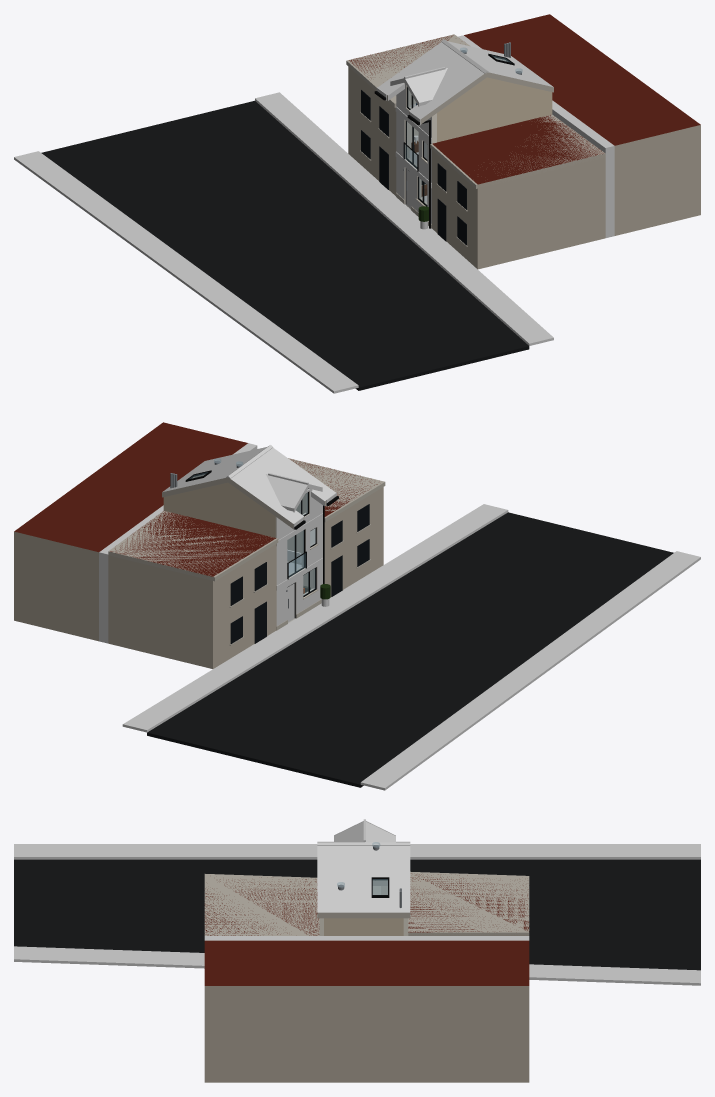
The model's file is Casa A - con despensa.obj.
The picture shows the model from 3 angles, top to bottom: view 1: azimuth 30°, elevation 25°; view 2: azimuth 150°, elevation 25°; view 3: azimuth 270°, elevation 25°; orthographic projection. The views are drawn at different scales.
Visible parts, largest first — view 1: Calle_y_aceras, Colindante_sur_(h_5.27), Colindante_trasero, Colindante_norte_(h_5.80), BC_Muros_exteriores, Cubierta_faldón_delantero, Cubierta_faldón_trasero, Muro_de_piedra_trasero, P1_Muros_exteriores, Casetón, PB_Muros_exteriores; view 2: Calle_y_aceras, Colindante_norte_(h_5.80), Colindante_trasero, Colindante_sur_(h_5.27), BC_Muros_exteriores, Cubierta_faldón_delantero, Cubierta_faldón_trasero, Muro_de_piedra_trasero, Casetón, PB_Muros_exteriores, P1_Muros_exteriores, P1_Vidrios_de_fachada (+1 smaller); view 3: Calle_y_aceras, Colindante_trasero, Colindante_norte_(h_5.80), Colindante_sur_(h_5.27), Cubierta_faldón_trasero, Muro_de_piedra_trasero, BC_Muros_exteriores, Casetón.
Part boxes in pixels (left/top/right/bottom): Calle_y_aceras: left=14, top=92, right=553, bottom=393; Colindante_sur_(h_5.27): left=430, top=114, right=605, bottom=269; Colindante_trasero: left=464, top=14, right=700, bottom=235; Colindante_norte_(h_5.80): left=346, top=34, right=470, bottom=195; BC_Muros_exteriores: left=396, top=77, right=552, bottom=138; Cubierta_faldón_delantero: left=378, top=42, right=486, bottom=124; Cubierta_faldón_trasero: left=441, top=39, right=553, bottom=92; Muro_de_piedra_trasero: left=458, top=35, right=614, bottom=237; P1_Muros_exteriores: left=396, top=109, right=552, bottom=182; Casetón: left=390, top=67, right=447, bottom=130; PB_Muros_exteriores: left=396, top=157, right=431, bottom=223; Calle_y_aceras: left=122, top=504, right=700, bottom=790; Colindante_norte_(h_5.80): left=108, top=511, right=278, bottom=668; Colindante_trasero: left=14, top=422, right=247, bottom=641; Colindante_sur_(h_5.27): left=288, top=458, right=385, bottom=597; BC_Muros_exteriores: left=163, top=482, right=322, bottom=539; Cubierta_faldón_delantero: left=228, top=448, right=335, bottom=528; Cubierta_faldón_trasero: left=162, top=445, right=273, bottom=497; Muro_de_piedra_trasero: left=99, top=443, right=257, bottom=643; Casetón: left=266, top=473, right=322, bottom=534; PB_Muros_exteriores: left=276, top=563, right=322, bottom=625; P1_Muros_exteriores: left=276, top=518, right=322, bottom=585; P1_Vidrios_de_fachada: left=287, top=528, right=315, bottom=577; Calle_y_aceras: left=14, top=844, right=700, bottom=985; Colindante_trasero: left=204, top=940, right=529, bottom=1082; Colindante_norte_(h_5.80): left=408, top=871, right=529, bottom=935; Colindante_sur_(h_5.27): left=204, top=874, right=319, bottom=935; Cubierta_faldón_trasero: left=317, top=842, right=410, bottom=918; Muro_de_piedra_trasero: left=204, top=936, right=529, bottom=940; BC_Muros_exteriores: left=319, top=918, right=408, bottom=935; Casetón: left=334, top=819, right=395, bottom=842.
Size of the model in its own units: 29.6 by 9.41 by 36.
